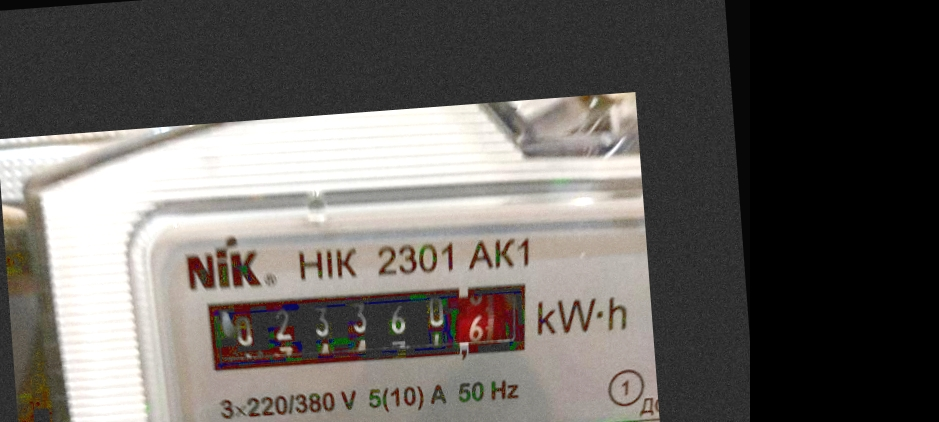0: (231, 311, 256, 348), (423, 293, 448, 330)
2: (271, 306, 294, 343)
3: (310, 304, 332, 340), (349, 300, 369, 335)
6: (386, 300, 408, 335), (465, 309, 485, 344)
screen: (192, 267, 550, 391)
